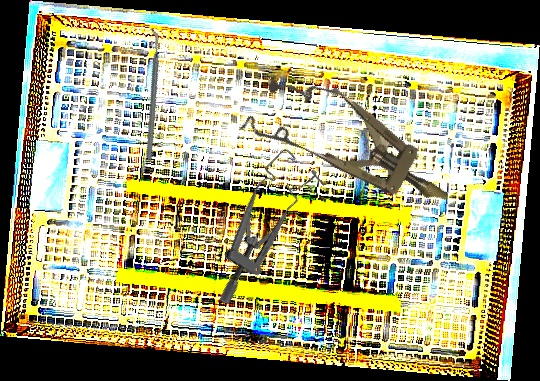Chopper: (97, 27, 205, 161)
Speculum: (238, 56, 468, 235), (177, 143, 338, 309)
